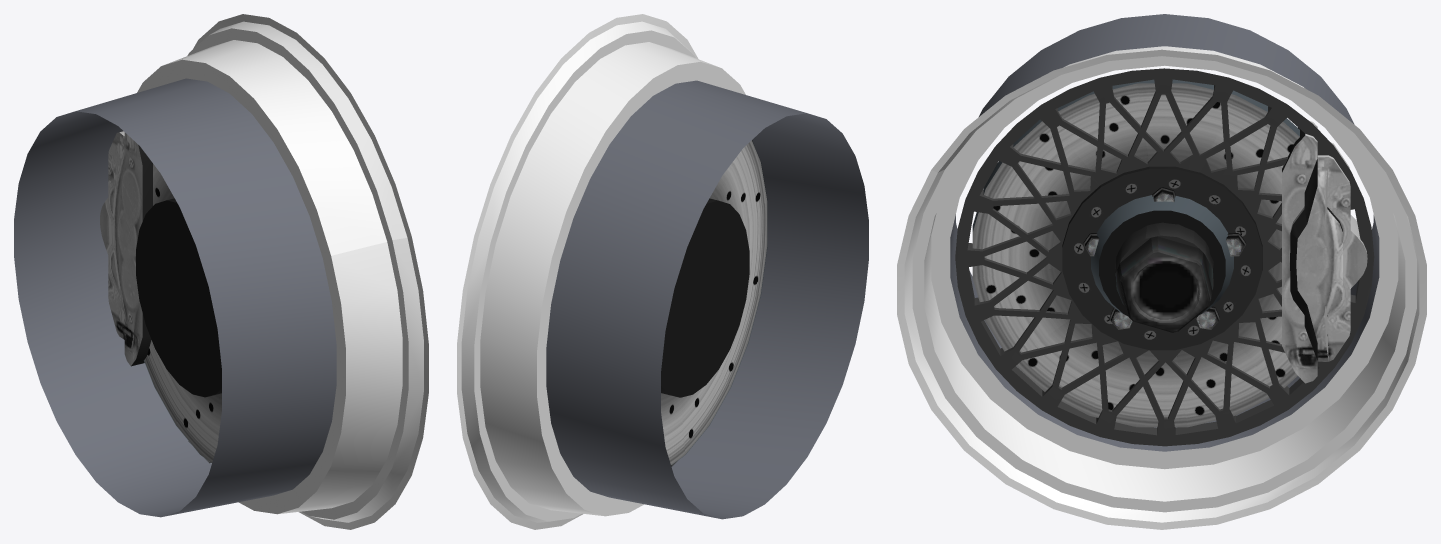
3 views of the same model, side by side, from view 1: azimuth 30°, elevation 25°; view 2: azimuth 150°, elevation 25°; view 3: azimuth 270°, elevation 25° (orthographic).
Visible parts, largest first — view 1: 056, BrakeDisc, Caliper; view 2: 056, BrakeDisc; view 3: 056, BrakeDisc, Caliper.
Boxes of the visible parts, box(x1,y1,x2,y2) form: 056: box(14, 14, 428, 529); BrakeDisc: box(136, 164, 221, 463); Caliper: box(100, 131, 152, 366); 056: box(457, 14, 868, 529); BrakeDisc: box(661, 140, 767, 465); 056: box(897, 14, 1426, 529); BrakeDisc: box(972, 79, 1299, 427); Caliper: box(1282, 120, 1367, 383).
Bounding box in the file's own units: 0.2132 × 0.5338 × 0.5338.
